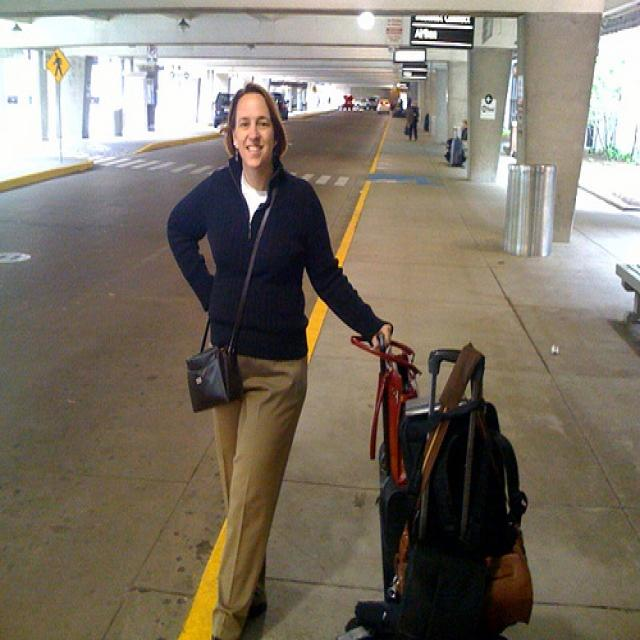Vehicle: (212, 91, 236, 129), (270, 91, 290, 122), (376, 98, 391, 115), (341, 95, 355, 111), (355, 97, 370, 111), (368, 96, 378, 111)
